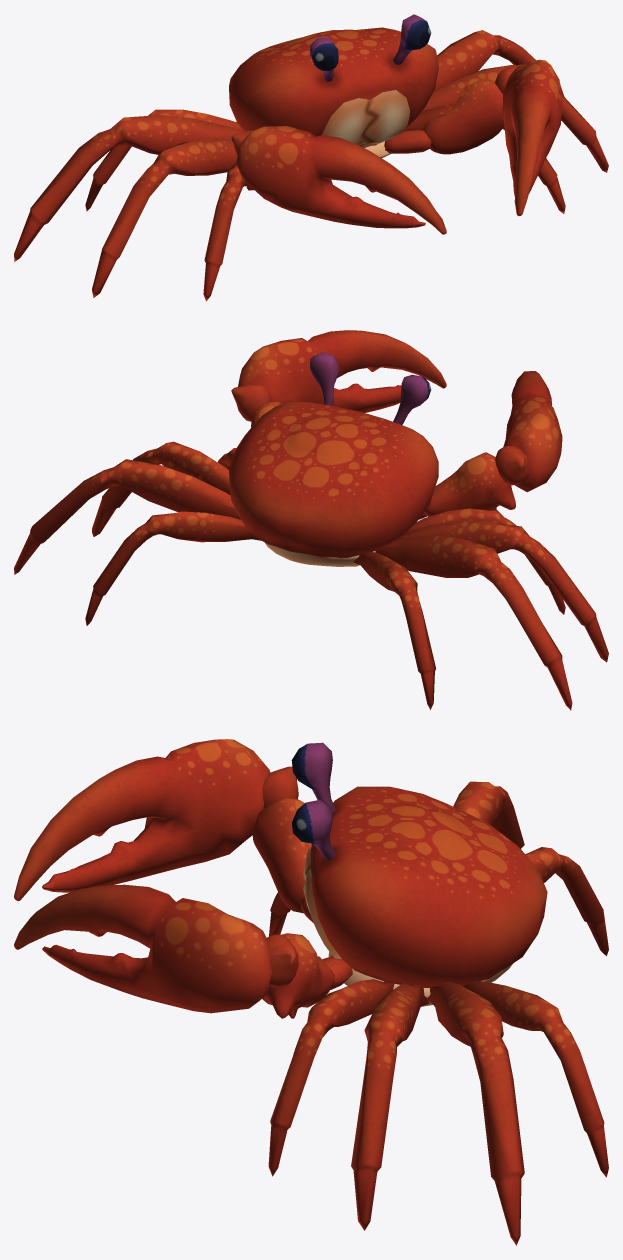
File: crab.glb
3 views of the same model, one above another, from view 1: azimuth 30°, elevation 25°; view 2: azimuth 150°, elevation 25°; view 3: azimuth 270°, elevation 25° (orthographic). The views are drawn at different scales.
Visible parts, largest first — view 1: Tangan4, Badan, Kaki3, Kaki2, Tangan2, Kaki1, Mata, Kaki4, Tangan1, Tangan3; view 2: Badan, Tangan4, Kaki3, Kaki2, Kaki4, Tangan2, Mata, Tangan3, Kaki1, Badan2; view 3: Tangan4, Badan, Kaki3, Kaki4, Kaki2, Tangan2, Kaki1, Mata, Tangan3, Tangan1.
Boxes of the visible parts, <box> form: Tangan4: <box>236,59,562,234</box>; Badan: <box>229,27,438,147</box>; Kaki3: <box>14,30,564,261</box>; Kaki2: <box>92,65,608,297</box>; Tangan2: <box>246,79,504,190</box>; Kaki1: <box>203,104,565,301</box>; Mata: <box>309,14,431,81</box>; Kaki4: <box>85,109,244,211</box>; Tangan1: <box>384,130,431,153</box>; Tangan3: <box>231,64,522,155</box>; Badan: <box>229,401,438,558</box>; Tangan4: <box>238,330,562,492</box>; Kaki3: <box>14,459,572,710</box>; Kaki2: <box>92,441,608,662</box>; Kaki4: <box>85,511,435,709</box>; Tangan2: <box>251,402,515,516</box>; Mata: <box>309,352,431,424</box>; Tangan3: <box>231,384,529,485</box>; Kaki1: <box>217,448,565,614</box>; Badan2: <box>265,543,375,566</box>; Tangan4: <box>14,739,271,1013</box>; Badan: <box>303,786,547,987</box>; Kaki3: <box>427,781,524,1245</box>; Kaki4: <box>462,847,608,1177</box>; Kaki2: <box>351,983,428,1230</box>; Tangan2: <box>252,798,334,1018</box>; Kaki1: <box>268,892,394,1176</box>; Mata: <box>291,742,335,860</box>; Tangan3: <box>262,766,298,986</box>; Tangan1: <box>300,898,352,989</box>.
Size of the model in its own units: 12.58 by 4.79 by 8.81.
1 material, 1 textured.
